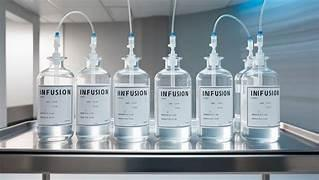Iv_Bottle: (241, 34, 279, 141), (154, 34, 191, 141), (113, 34, 149, 141), (76, 34, 111, 140), (37, 48, 73, 140), (196, 50, 232, 141), (233, 39, 252, 132), (233, 59, 251, 132)
